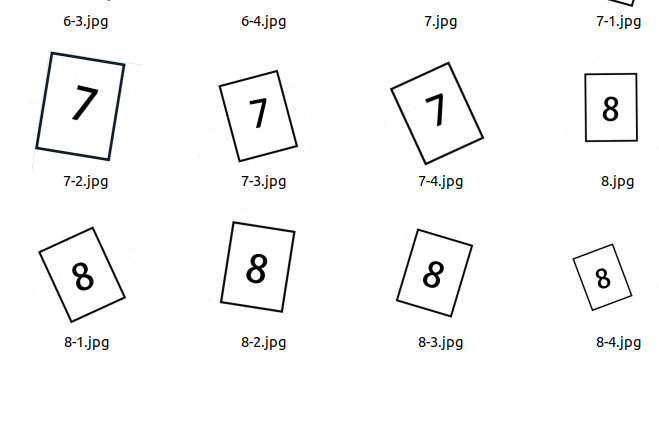eight: (419, 248, 451, 301), (241, 244, 271, 296), (67, 254, 102, 295), (599, 85, 624, 131), (591, 263, 616, 297)
seven: (61, 72, 104, 128), (416, 86, 457, 142), (238, 89, 279, 137)
